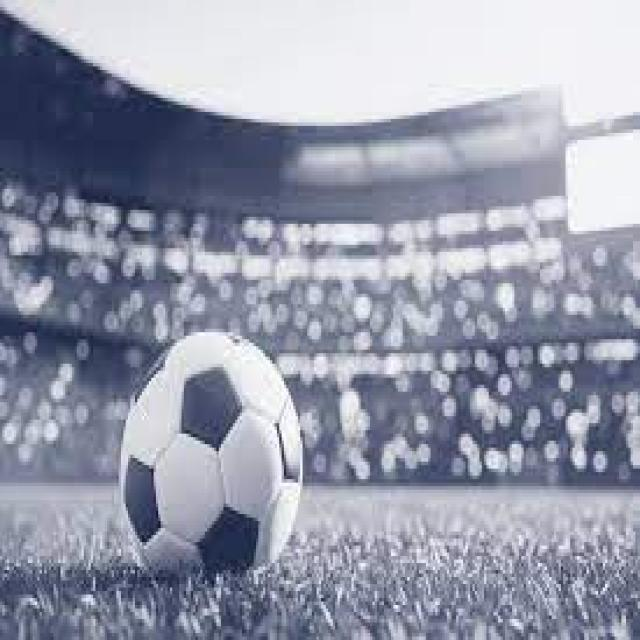ball: (118, 332, 303, 578)
